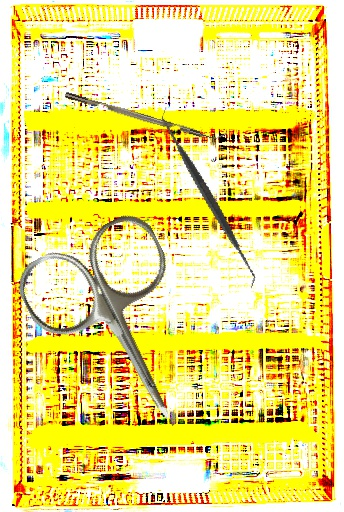Chopper: (64, 84, 228, 146)
Iris Scissors: (9, 206, 232, 453)
Spatula Surgical: (117, 106, 300, 290)
